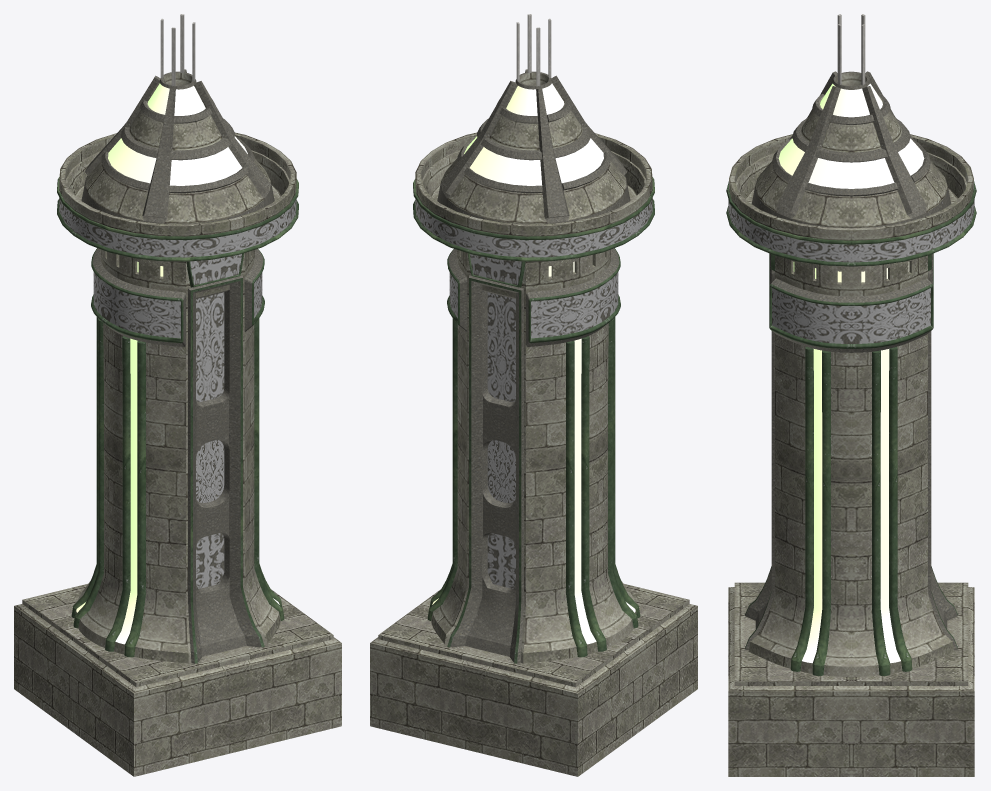
File: windTower.glb
3 renders of one model, left to right at view 1: azimuth 30°, elevation 25°; view 2: azimuth 150°, elevation 25°; view 3: azimuth 270°, elevation 25°, orthographic. The views are drawn at different scales.
Visible parts, largest first — view 1: WindTower_Level3; view 2: WindTower_Level3; view 3: WindTower_Level3.
Part boxes in pixels (x1,y1,x2,y2): WindTower_Level3: (14,14,341,776); WindTower_Level3: (370,14,697,776); WindTower_Level3: (726,14,976,776).
Size of the model in its own units: 8.87 by 27.76 by 8.93.
1 material, 1 textured.
